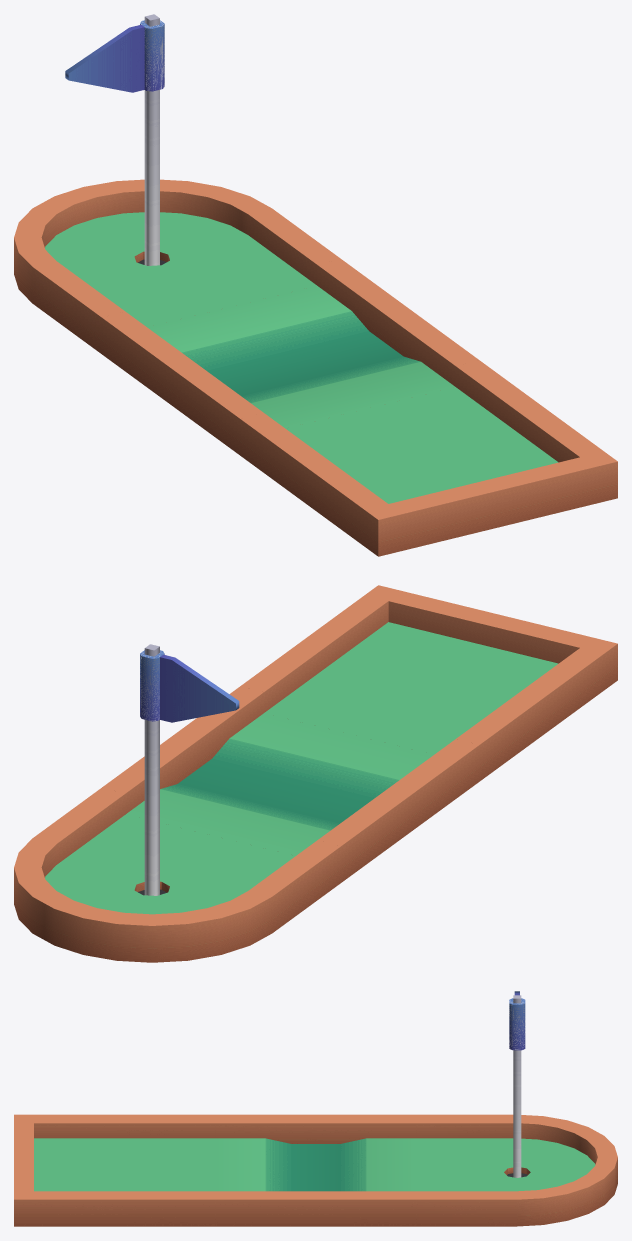
The model's file is hole1.glb.
3 renders of one model, top to bottom at view 1: azimuth 30°, elevation 25°; view 2: azimuth 150°, elevation 25°; view 3: azimuth 270°, elevation 25°, orthographic. The views are drawn at different scales.
Parts seen in each view (by area): view 1: Course; view 2: Course; view 3: Course.
Part boxes in pixels (left/top/right/bottom): Course: left=14, top=14, right=617, bottom=556; Course: left=14, top=585, right=617, bottom=962; Course: left=14, top=991, right=617, bottom=1226.
Size of the model in its own units: 0.9999 by 1.02 by 3.
2 materials, 2 textured.
